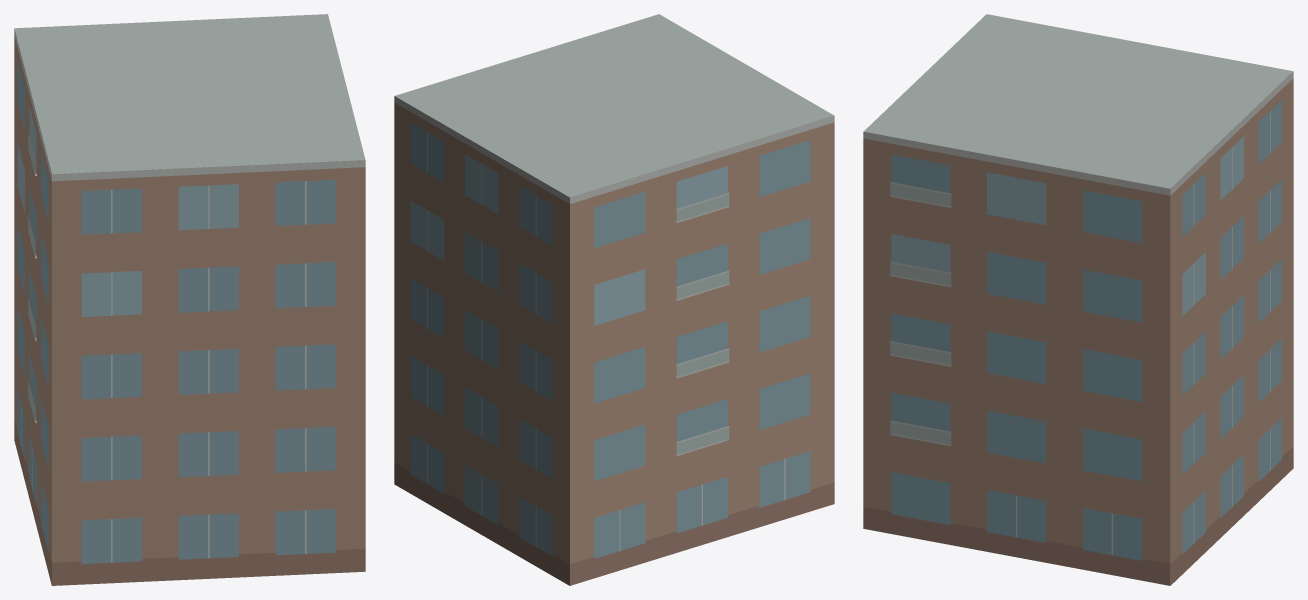
Rendered from survey-upis-32532212.glb.
3 views of the same model, side by side, from view 1: azimuth 30°, elevation 25°; view 2: azimuth 150°, elevation 25°; view 3: azimuth 270°, elevation 25° (orthographic). The views are drawn at different scales.
Parts seen in each view (by area): view 1: survey-upis-32532212.tmp; view 2: survey-upis-32532212.tmp; view 3: survey-upis-32532212.tmp.
Boxes of the visible parts, x1,y1,x2,y2 form: survey-upis-32532212.tmp: (14,14,365,585); survey-upis-32532212.tmp: (394,14,834,585); survey-upis-32532212.tmp: (863,14,1293,585).
Bounding box in the file's own units: 13.37 × 14.15 × 13.9.
